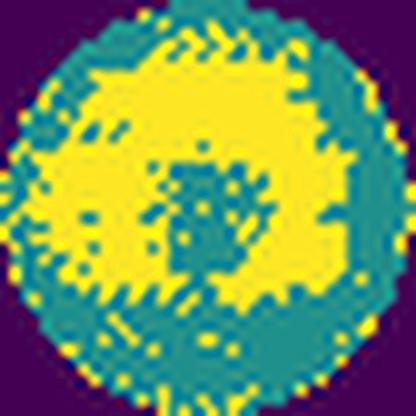Donut: (0, 20, 361, 316)
